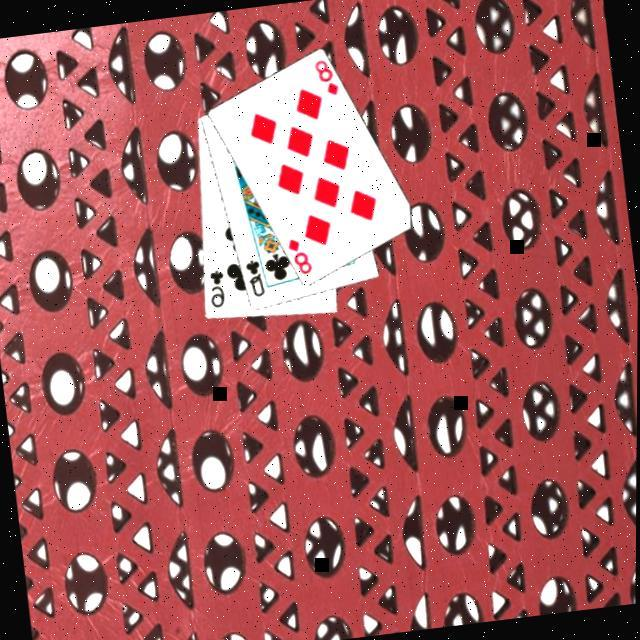8D: (308, 53, 341, 98), (283, 231, 315, 277)
9C: (203, 264, 228, 310)
QC: (240, 253, 267, 298)
